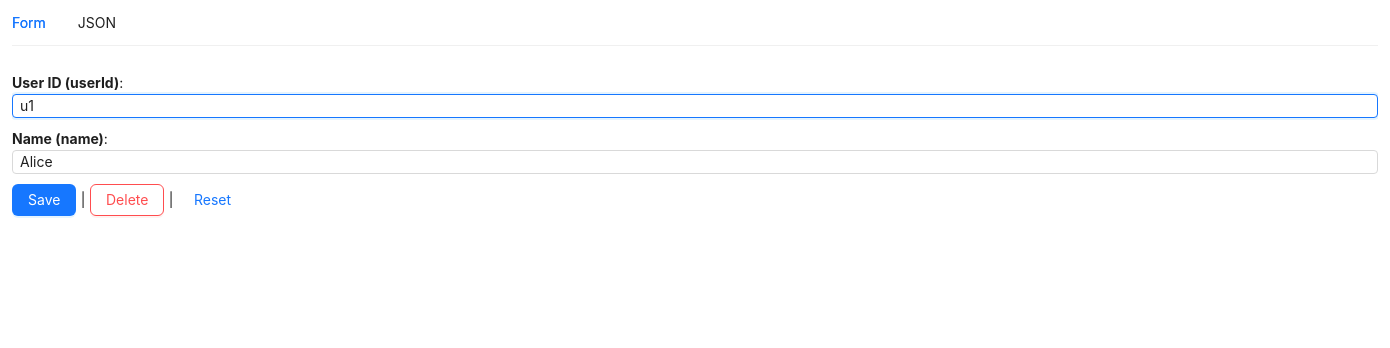
Test case: UpdatePage › writes the whole table file when not in split-table mode
Replace the text in the 2nd field with "Alice2" at x=695, y=162, box [12, 150, 1378, 174]
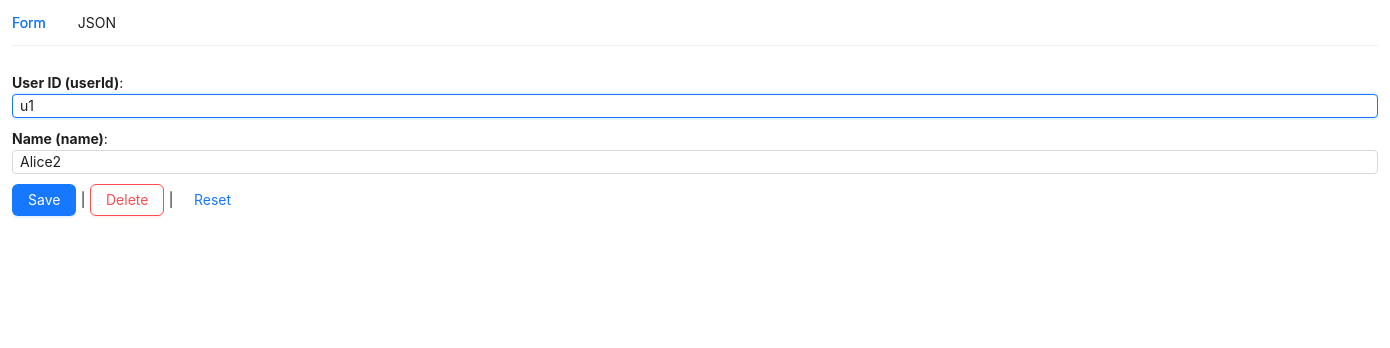
Click the button "Save" at x=44, y=200, box [12, 184, 76, 216]
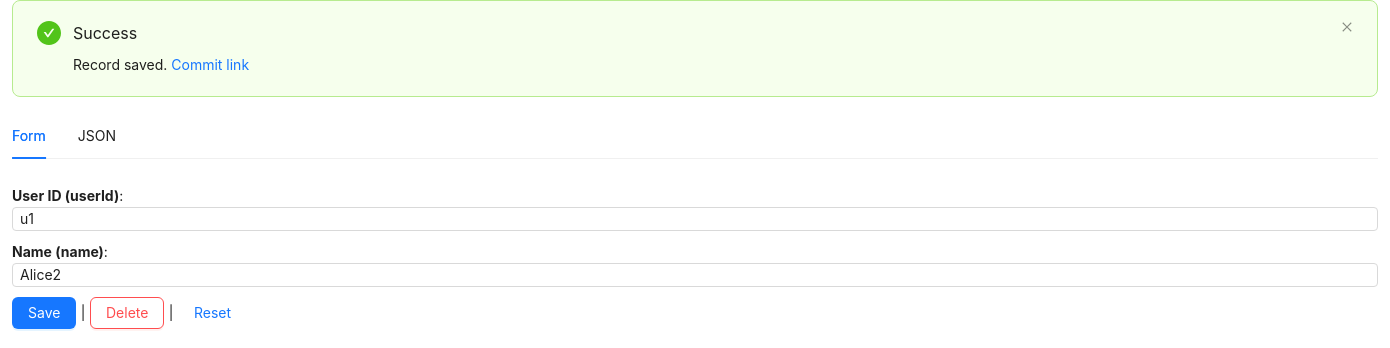
Now the text "Record saved." is shown, box [73, 56, 167, 73]
